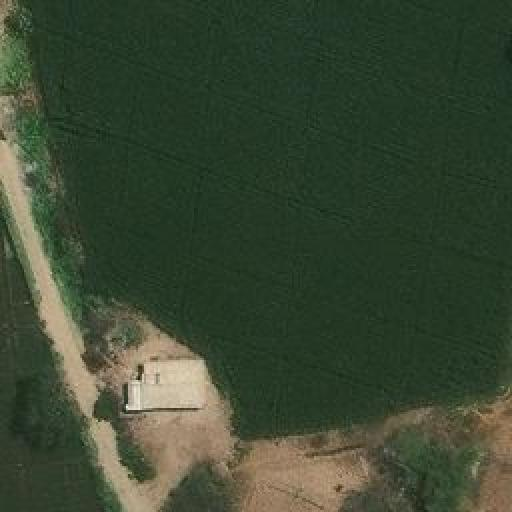manzanas: (123, 361, 215, 411)
